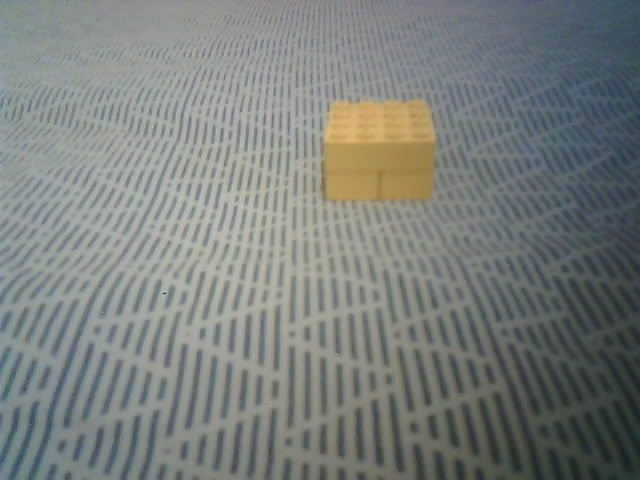lego: (321, 99, 438, 203)
